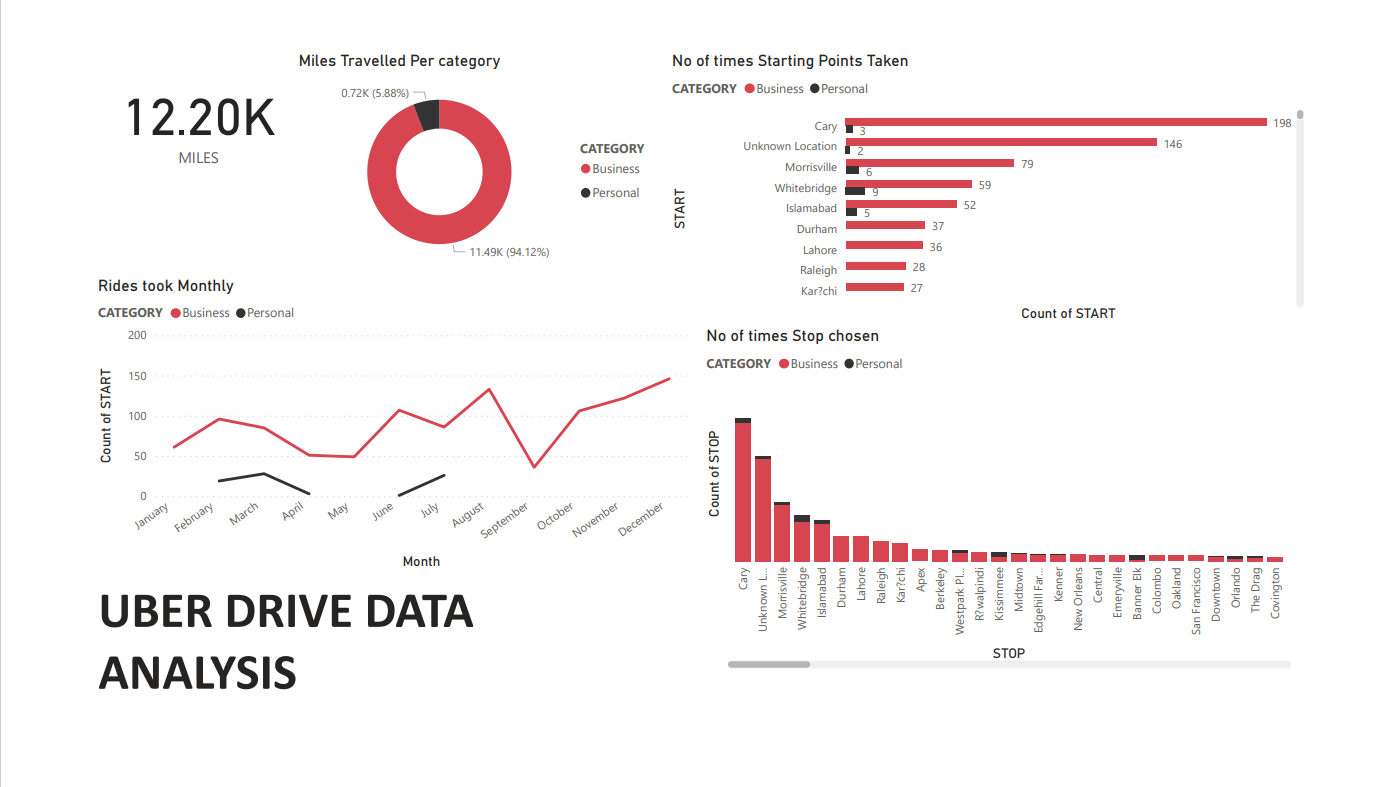

The dashboard page shown, as its layout file describes it:
{"tool":"powerbi","page":{"name":"Visuals","canvas":[1280,720],"ordinal":0},"visuals":[{"type":"card","fields":{"Values":["Sum(Final Dataset.MILES)"]},"box":[9.6,0,201.9,147],"z":0},{"type":"donutChart","title":"Miles Travelled Per category","fields":{"Y":["Sum(Final Dataset.MILES)"],"Category":["Final Dataset.CATEGORY"]},"box":[211.1,0,393.2,236.4],"z":1},{"type":"clusteredBarChart","title":"No of times Starting Points Taken","fields":{"Category":["Final Dataset.START"],"Y":["CountNonNull(Final Dataset.START)"],"Series":["Final Dataset.CATEGORY"]},"box":[604.2,0,675.4,289.4],"z":2},{"type":"lineChart","title":"Rides took Monthly","fields":{"Category":["Final Dataset.START_DATE.Variation.Date Hierarchy.Month"],"Y":["CountNonNull(Final Dataset.START)"],"Series":["Final Dataset.CATEGORY"]},"box":[0,236.4,629.5,313.6],"z":3},{"type":"columnChart","title":"No of times Stop chosen","fields":{"Category":["Final Dataset.STOP"],"Series":["Final Dataset.CATEGORY"],"Y":["CountNonNull(Final Dataset.STOP)"]},"box":[640.4,289.4,624.7,365.4],"z":4},{"type":"textbox","box":[0,549.9,604.2,150.8],"z":5}]}

Visuals, with their boxes in screenshot pixels (x1, y1, x2, y2), scaled from the page's 1280x720 canvas onto the 1400x787 screenshot:
card - Sum(Final Dataset.MILES): l=10, t=0, r=231, b=161
"Miles Travelled Per category" donutChart: l=231, t=0, r=661, b=258
"No of times Starting Points Taken" clusteredBarChart: l=661, t=0, r=1399, b=316
"Rides took Monthly" lineChart: l=0, t=258, r=689, b=601
"No of times Stop chosen" columnChart: l=700, t=316, r=1384, b=716
textbox: l=0, t=601, r=661, b=766
